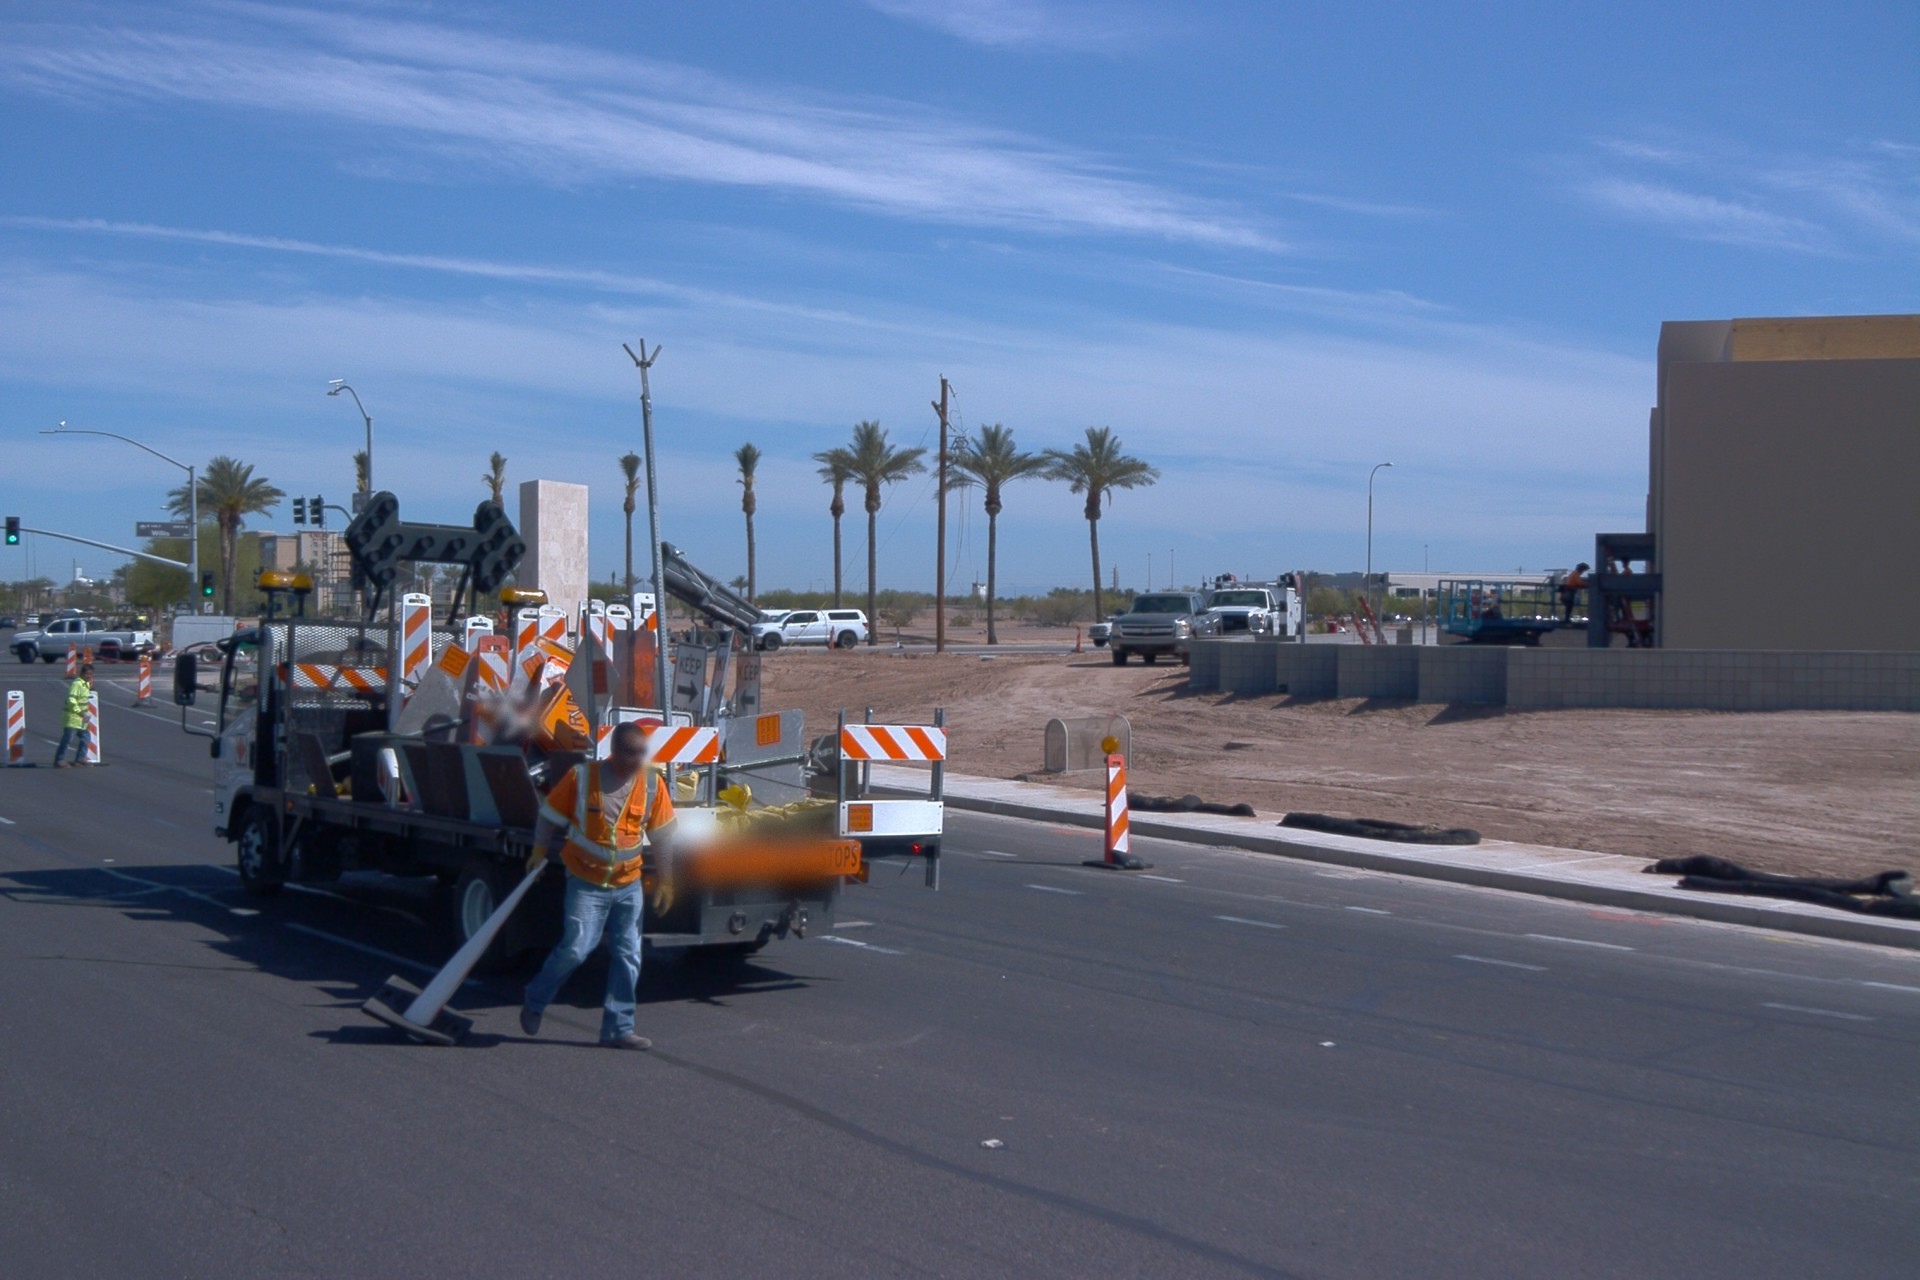TYPE_PEDESTRIAN: (519, 722, 681, 1053), (52, 663, 98, 769), (137, 607, 145, 627)
TYPE_VEHICLE: (168, 336, 954, 983), (608, 539, 770, 652), (1107, 586, 1227, 669), (1194, 562, 1310, 640), (9, 616, 157, 665), (748, 609, 869, 656), (170, 616, 243, 665), (104, 602, 160, 657), (1083, 618, 1115, 654), (759, 608, 796, 626), (25, 616, 41, 630), (0, 617, 16, 631)
